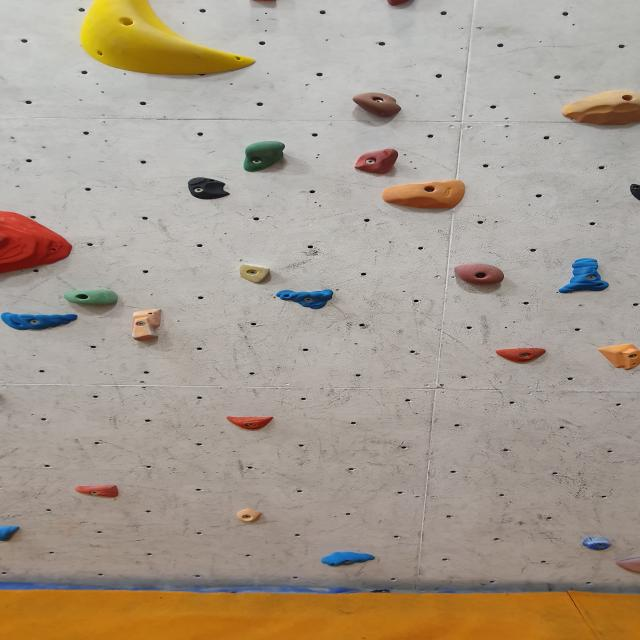Crimp: (0, 211, 74, 275), (0, 311, 82, 330), (273, 289, 335, 307), (320, 551, 380, 568), (492, 348, 552, 363), (223, 416, 277, 431), (238, 266, 275, 286), (73, 484, 124, 498), (614, 554, 640, 575), (580, 536, 612, 550), (233, 507, 262, 522), (0, 526, 24, 542)
Jug: (242, 140, 292, 172), (349, 92, 406, 119), (352, 149, 400, 174), (452, 265, 506, 287), (63, 288, 120, 306)
Pinch: (555, 254, 612, 293), (126, 306, 168, 344)
Sloper: (75, 0, 258, 76), (559, 88, 640, 125), (379, 180, 468, 210), (596, 343, 640, 370), (183, 177, 232, 200)
